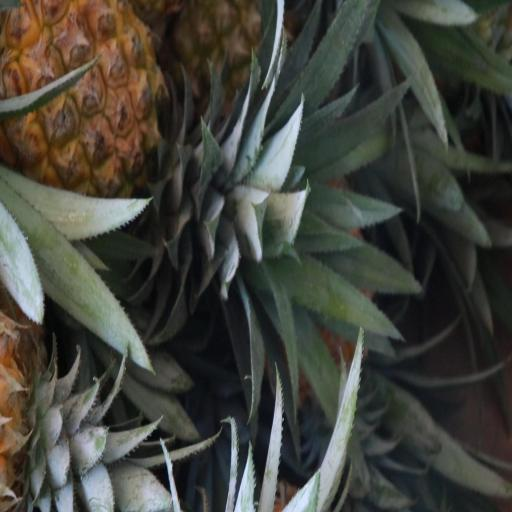Pineapple - v8 v1: (0, 0, 198, 207)
